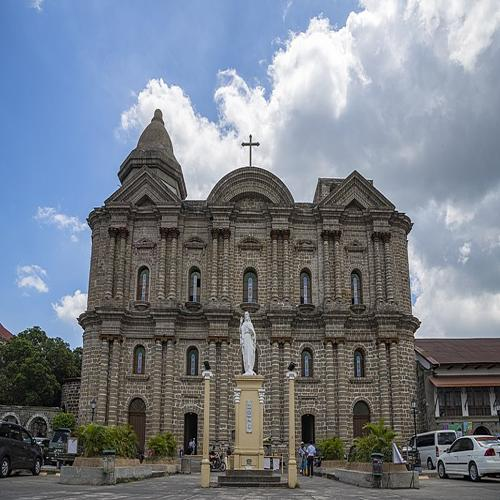Taal Basilica Church: (62, 82, 427, 472)
